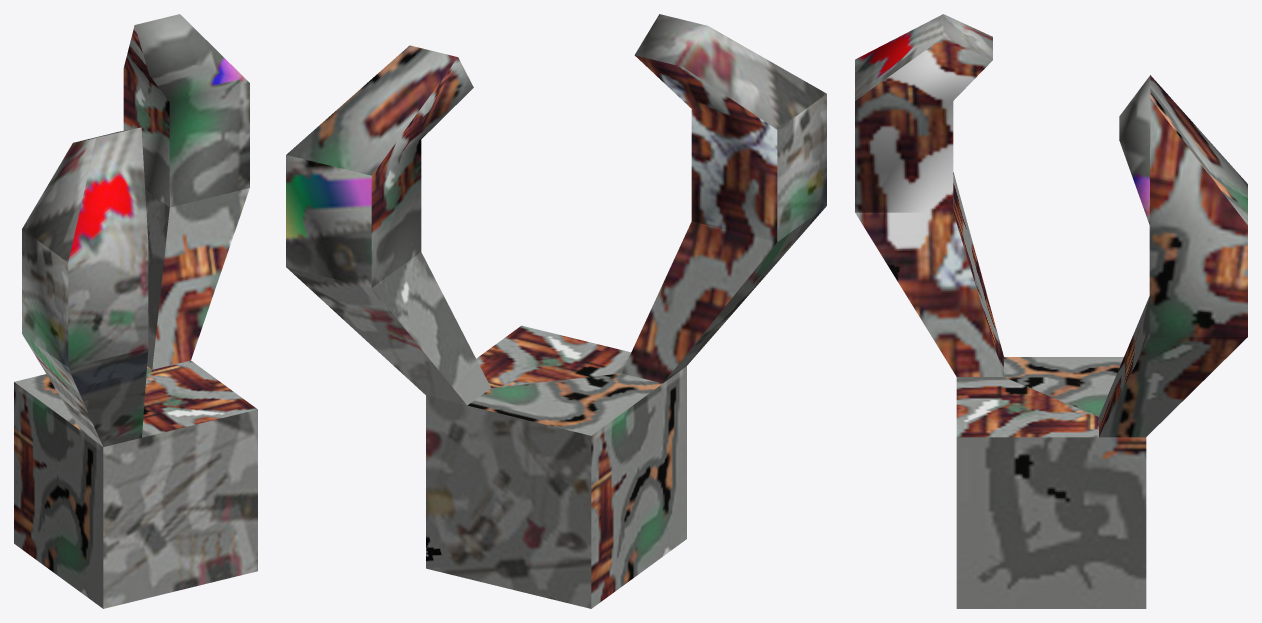
The model's file is blender01.obj.
3 renders of one model, left to right at view 1: azimuth 30°, elevation 25°; view 2: azimuth 150°, elevation 25°; view 3: azimuth 270°, elevation 25°, orthographic. The views are drawn at different scales.
Parts seen in each view (by area): view 1: Cube; view 2: Cube; view 3: Cube.
Part boxes in pixels (x1,y1,x2,y2): Cube: (14, 14, 257, 608); Cube: (286, 14, 826, 608); Cube: (855, 14, 1247, 608).
Size of the model in its own units: 4.15 by 6.02 by 4.15.
1 material, 1 textured.
